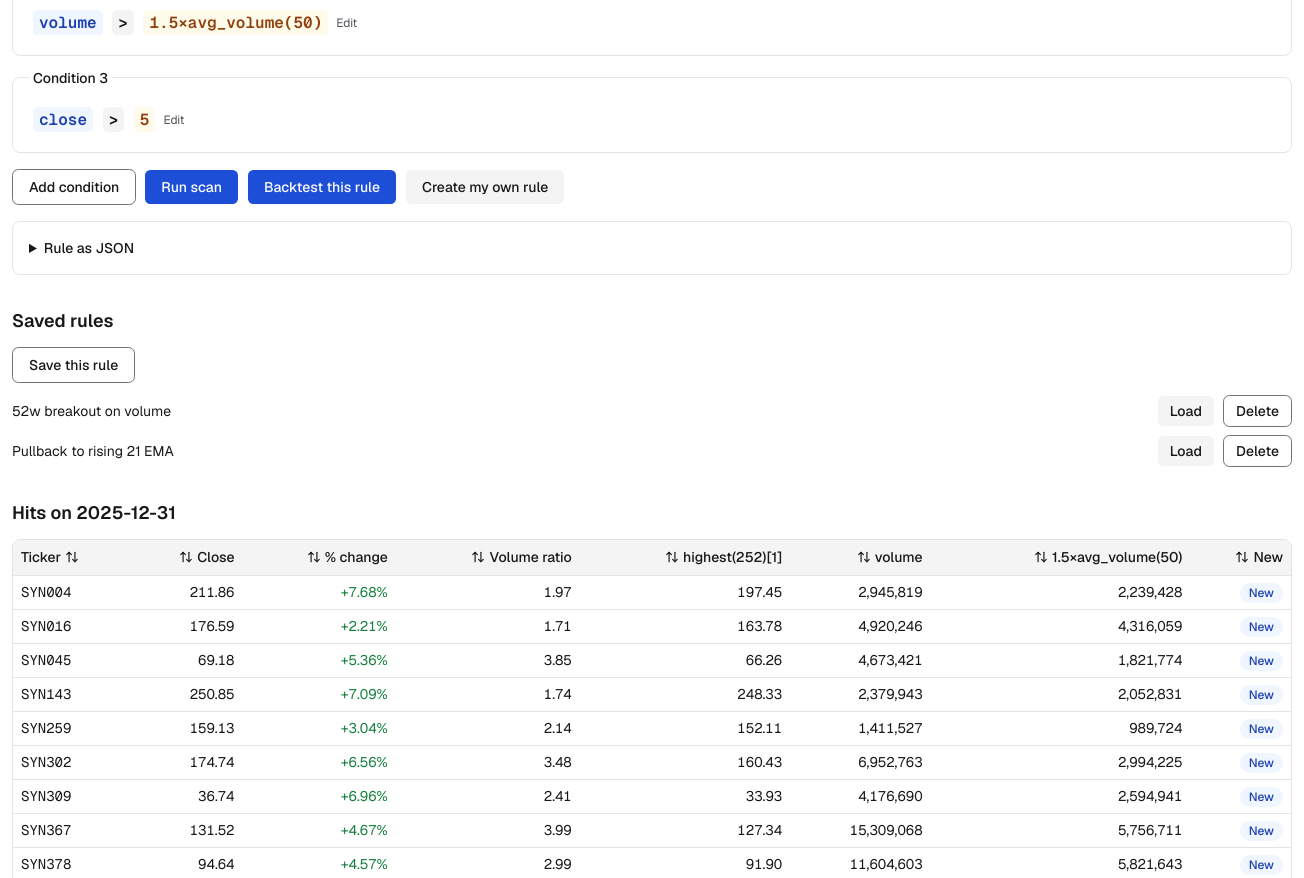
Scenario: ScanWorkspace saved rules › loads a saved rule into the builder, name and conditions (AC-2)
This screenshot has width=1304, height=878.
(page scrolled)
expect the heading "Saved rules" is shown: met, box [12,308,113,332]
Click the button "Load" in the row of "Pullback to rising 21 EMA". click: click(1186, 450)
box: [1157,434,1215,466]
(page scrolled)
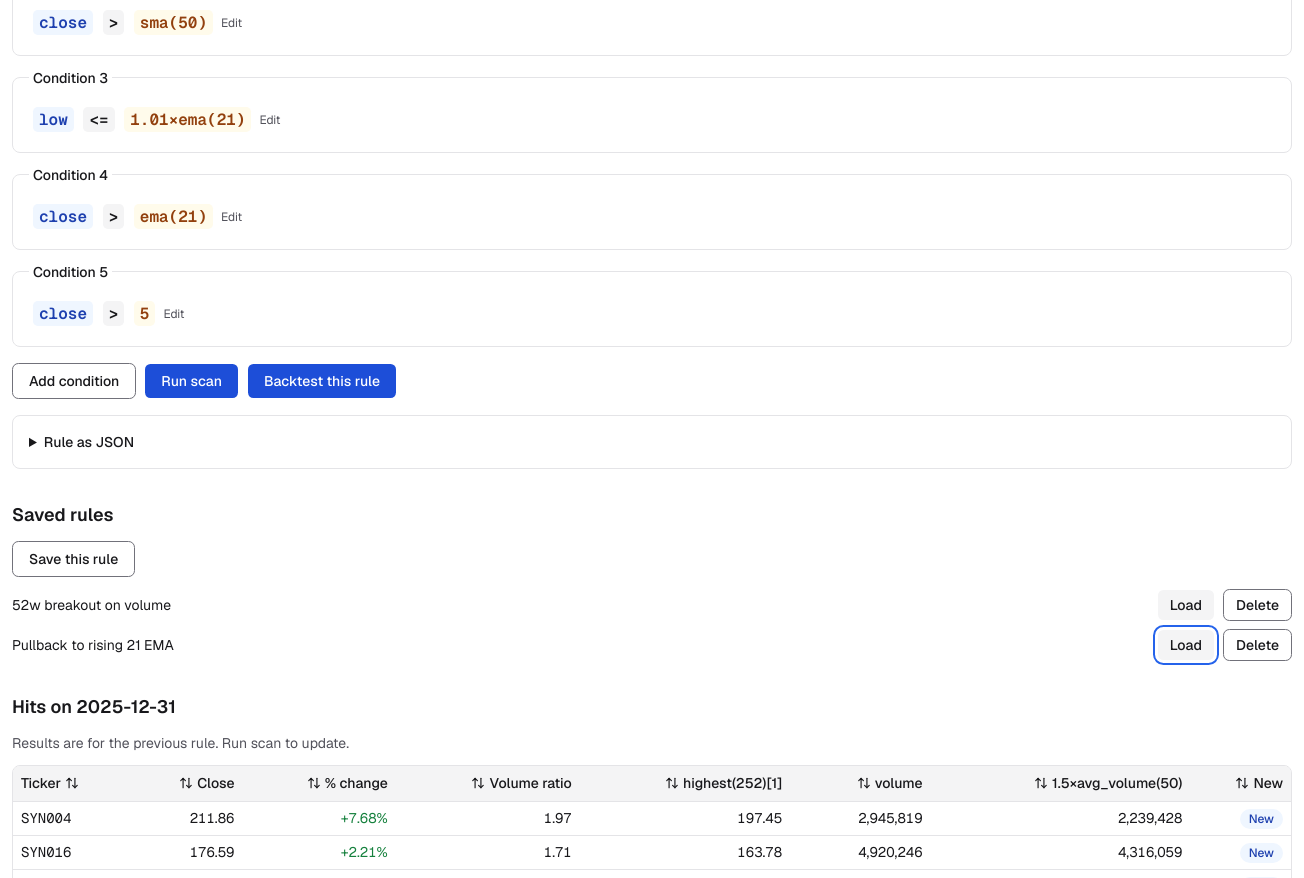
expect the text "Results are for the previous rule. Run scan to update." is shown: met, box [12,734,349,752]
